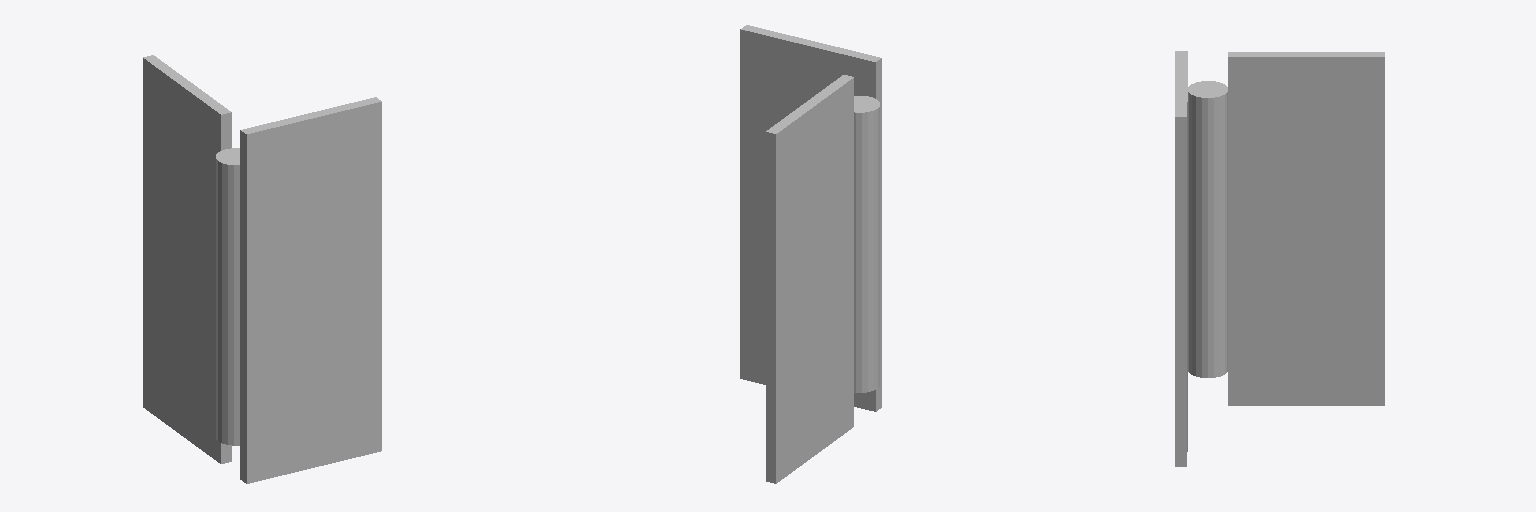
File: hinges.obj
3 views of the same model, side by side, from view 1: azimuth 30°, elevation 25°; view 2: azimuth 150°, elevation 25°; view 3: azimuth 270°, elevation 25° (orthographic).
Visible parts, largest first — view 1: cabinet:cabinet1:pCube1 cabinet:group1, cabinet:pCube1, cabinet:pCylinder1; view 2: cabinet:pCube1, cabinet:cabinet1:pCube1 cabinet:group1, cabinet:pCylinder1; view 3: cabinet:pCube1, cabinet:pCylinder1, cabinet:cabinet1:pCube1 cabinet:group1.
Boxes of the visible parts, box(x1,y1,x2,y2) form: cabinet:cabinet1:pCube1 cabinet:group1: box(240, 97, 381, 483); cabinet:pCube1: box(143, 55, 231, 463); cabinet:pCylinder1: box(216, 148, 239, 445); cabinet:pCube1: box(766, 75, 853, 483); cabinet:cabinet1:pCube1 cabinet:group1: box(740, 25, 881, 411); cabinet:pCylinder1: box(854, 96, 879, 392); cabinet:pCube1: box(1228, 52, 1384, 405); cabinet:pCylinder1: box(1188, 81, 1227, 377); cabinet:cabinet1:pCube1 cabinet:group1: box(1175, 51, 1187, 466).
Bounding box in the file's own units: 0.9783 × 2.21 × 1.2.